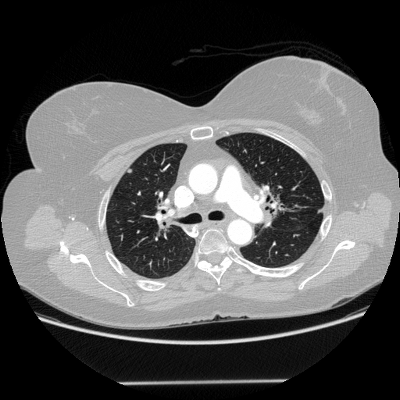nodule: (127, 168, 131, 172)
